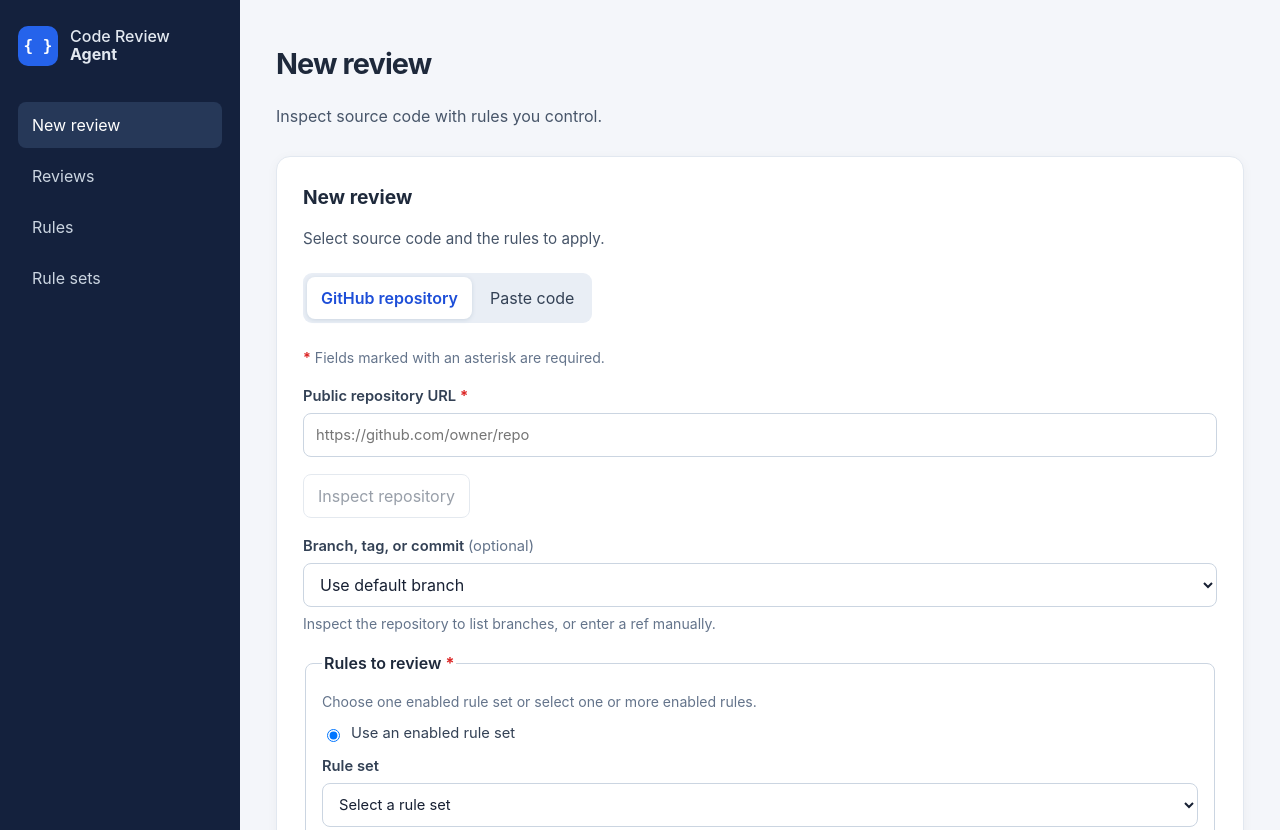
Test case: loads review history and opens details
Expected: the 1st heading "New review" is shown, [276,46,431,81]
Click the button "Reviews" at x=120, y=176, box [18,153,222,199]
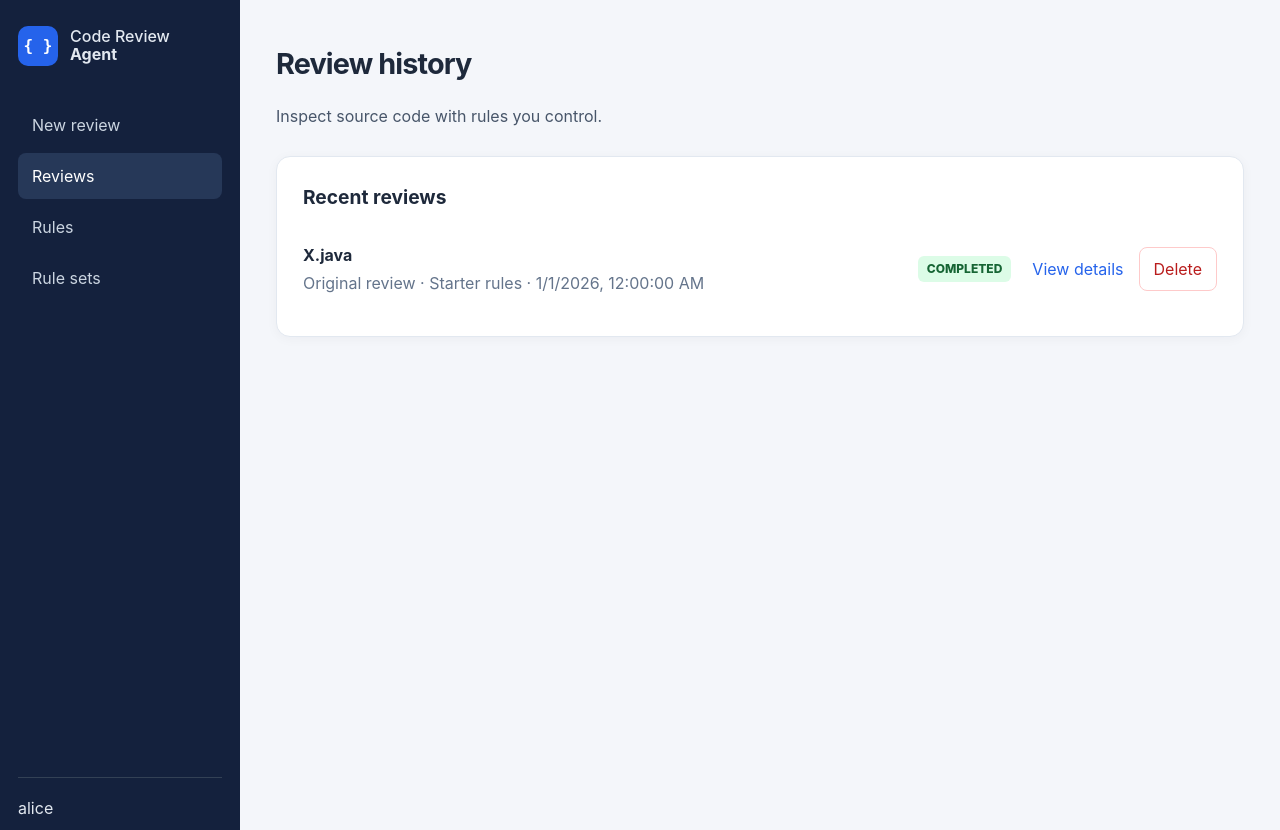
Result: the heading "Recent reviews" is shown at [303,186,446,210]
Click the button "X.java" at x=328, y=255, box [303,243,1011,295]
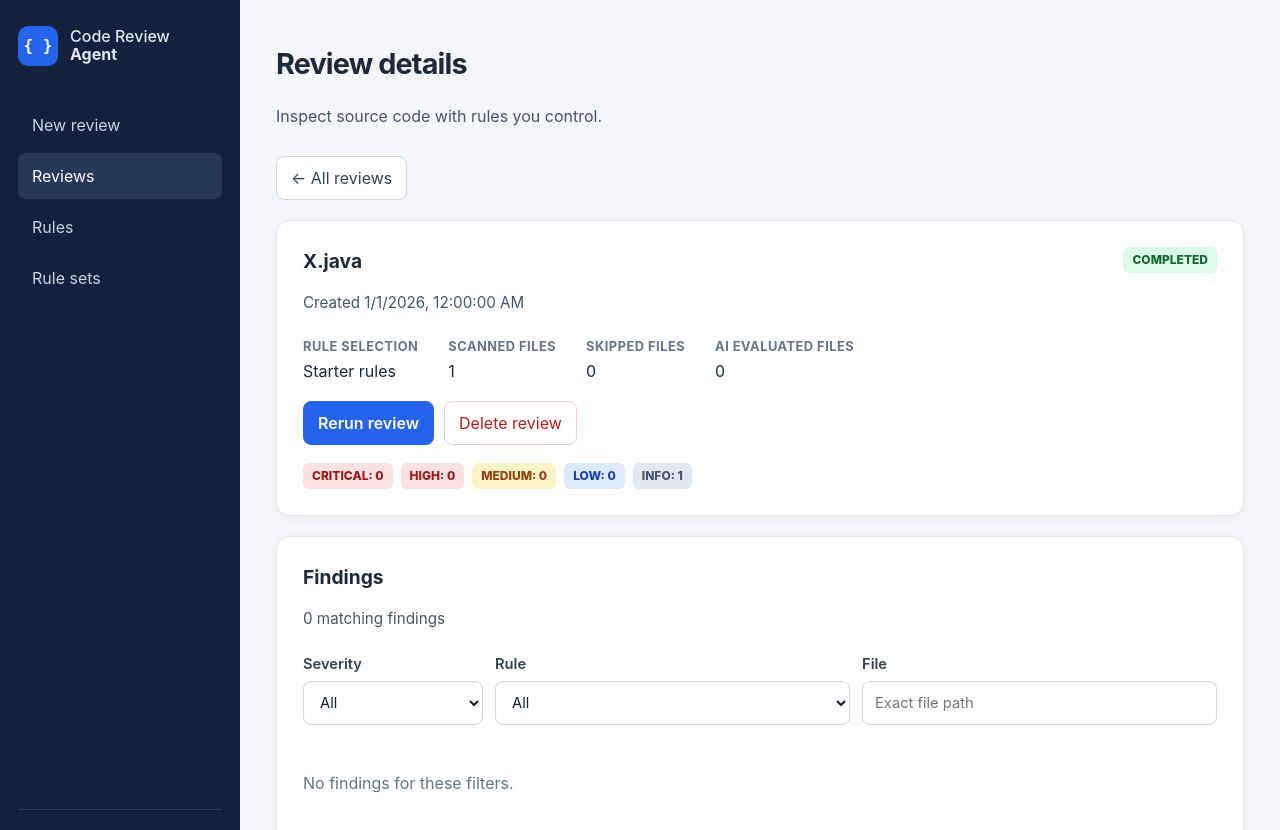
Result: the heading "Review details" is shown at [276,46,467,81]
